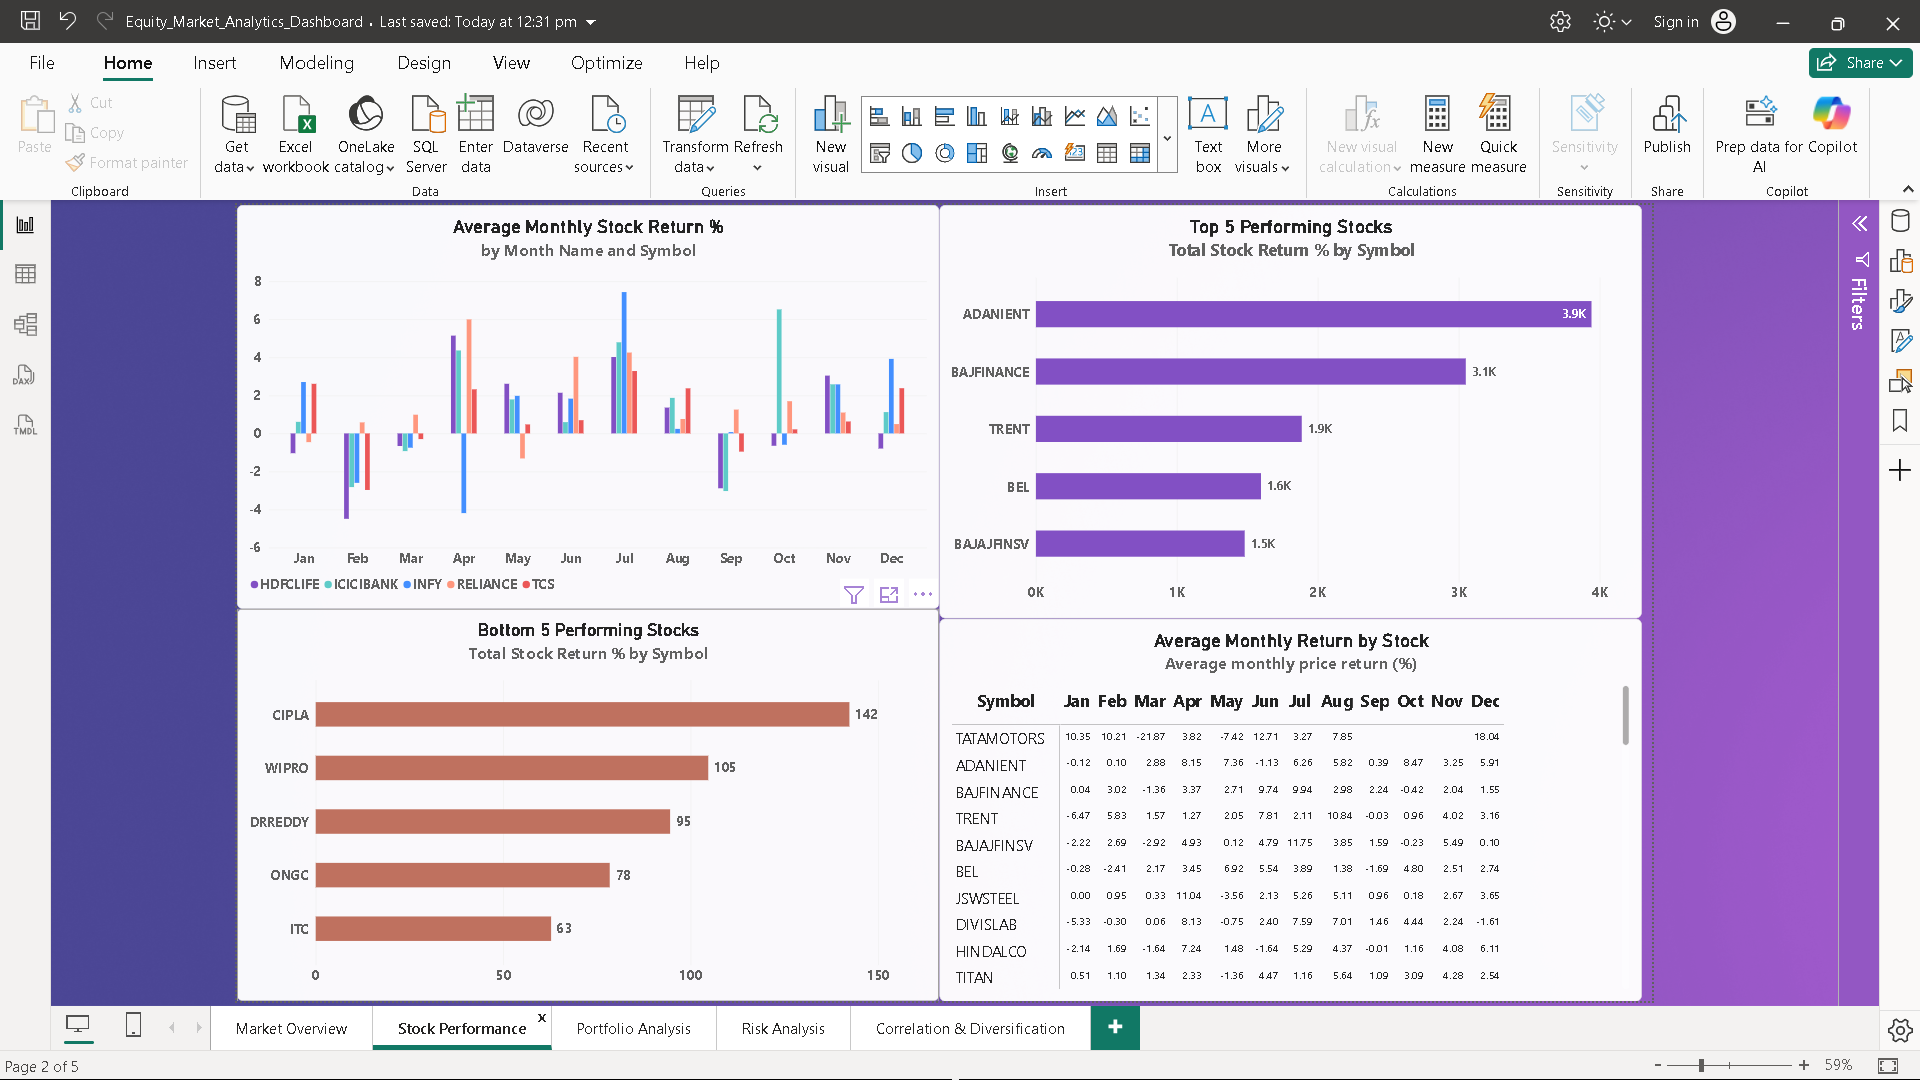

Layout of this report page (visuals, bound fields, positions):
{"tool":"powerbi","page":{"name":"Stock Performance","canvas":[1920,1080],"ordinal":1},"visuals":[{"type":"clusteredColumnChart","fields":{"Category":["equity_market_analytics stock_prices.Month Name"],"Series":["equity_market_analytics stock_prices.Symbol"],"Y":["equity_market_analytics stock_prices.Average Monthly Stock Return %"]},"box":[0,0,952.8,548.3],"z":0},{"type":"clusteredBarChart","title":"Top 5 Performing Stocks","fields":{"Category":["equity_market_analytics stock_prices.Symbol"],"Y":["equity_market_analytics stock_prices.Total Stock Return %"]},"box":[952.8,0,952.8,560.9],"z":1000},{"type":"clusteredBarChart","title":"Bottom 5 Performing Stocks","fields":{"Category":["equity_market_analytics stock_prices.Symbol"],"Y":["equity_market_analytics stock_prices.Total Stock Return %"]},"box":[0,548.3,952.8,532.1],"z":2000},{"type":"pivotTable","title":"Average Monthly Return by Stock","fields":{"Columns":["equity_market_analytics stock_prices.Month Name"],"Rows":["equity_market_analytics stock_prices.Symbol"],"Values":["equity_market_analytics stock_prices.Average Monthly Stock Return %"]},"box":[952.8,560.9,952.8,519.6],"z":3000}]}

Visuals, with their boxes on the page's 1920x1080 design canvas (x1, y1, x2, y2). These are canvas units, not pixel positions in the 1920x1080 screenshot, which may show the page scaled, cropped or inside an application window:
clusteredColumnChart - equity_market_analytics stock_prices.Month Name x equity_market_analytics stock_prices.Symbol: <region>0, 0, 953, 548</region>
"Top 5 Performing Stocks" clusteredBarChart: <region>953, 0, 1906, 561</region>
"Bottom 5 Performing Stocks" clusteredBarChart: <region>0, 548, 953, 1080</region>
"Average Monthly Return by Stock" pivotTable: <region>953, 561, 1906, 1080</region>
